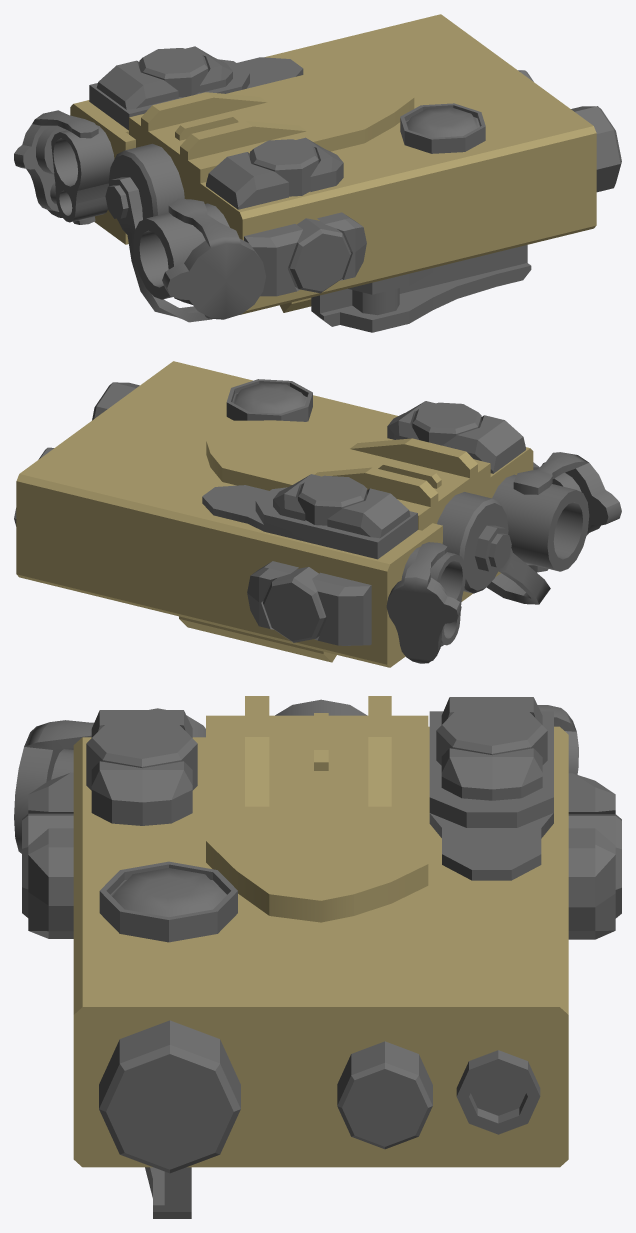
File: Laser_DBAL_A2.fbx
The picture shows the model from 3 angles, top to bottom: view 1: azimuth 30°, elevation 25°; view 2: azimuth 150°, elevation 25°; view 3: azimuth 270°, elevation 25°; orthographic projection. The views are drawn at different scales.
Visible parts, largest first — view 1: DBAL_A2_laserModule, pCube9, pCylinder14, pCube4, pCube6, pCube8, pCylinder11, pCylinder12, pCylinder7, pCylinder13, pCylinder8, pCube7 (+2 smaller); view 2: DBAL_A2_laserModule, pCube5, pCylinder12, pCube8, pCube7, pCube6, pCylinder13, pCylinder14, pCylinder8, pCylinder15, pCylinder7, pCylinder11 (+1 smaller); view 3: DBAL_A2_laserModule, pCylinder4, pCube6, pCube7, pCube8, pCylinder7, pCube5, pCylinder5, pCube4, pCylinder6, pCylinder14, pCube9 (+2 smaller).
Boxes of the visible parts, x1,y1,x2,y2 form: DBAL_A2_laserModule: (70, 14, 596, 314); pCube9: (311, 245, 531, 332); pCylinder14: (162, 198, 266, 319); pCube4: (244, 212, 366, 296); pCube6: (206, 137, 343, 209); pCube8: (96, 46, 232, 109); pCylinder11: (51, 125, 114, 222); pCylinder12: (133, 203, 229, 299); pCylinder7: (400, 103, 485, 153); pCylinder13: (14, 110, 98, 224); pCylinder8: (108, 143, 184, 233); pCube7: (89, 57, 303, 130); DBAL_A2_laserModule: (16, 361, 533, 667); pCube5: (247, 561, 371, 645); pCylinder12: (492, 474, 589, 571); pCube8: (273, 474, 410, 538); pCube7: (202, 485, 417, 559); pCube6: (387, 401, 525, 473); pCylinder13: (386, 542, 461, 663); pCylinder14: (513, 452, 621, 572); pCylinder8: (437, 492, 508, 593); pCylinder15: (475, 525, 550, 604); pCylinder7: (226, 379, 312, 421); pCylinder11: (401, 547, 466, 645); DBAL_A2_laserModule: (73, 696, 568, 1167); pCylinder4: (99, 1020, 240, 1173); pCube6: (86, 710, 197, 825); pCube7: (429, 711, 553, 880); pCube8: (436, 697, 547, 800); pCylinder7: (99, 861, 237, 942); pCube5: (568, 773, 621, 939); pCylinder5: (337, 1041, 432, 1149); pCube4: (22, 772, 73, 938); pCylinder6: (456, 1050, 540, 1134); pCylinder14: (14, 720, 93, 853); pCube9: (145, 1167, 191, 1218).
Bounding box in the file's own units: 11.09 × 4.47 × 7.93.
